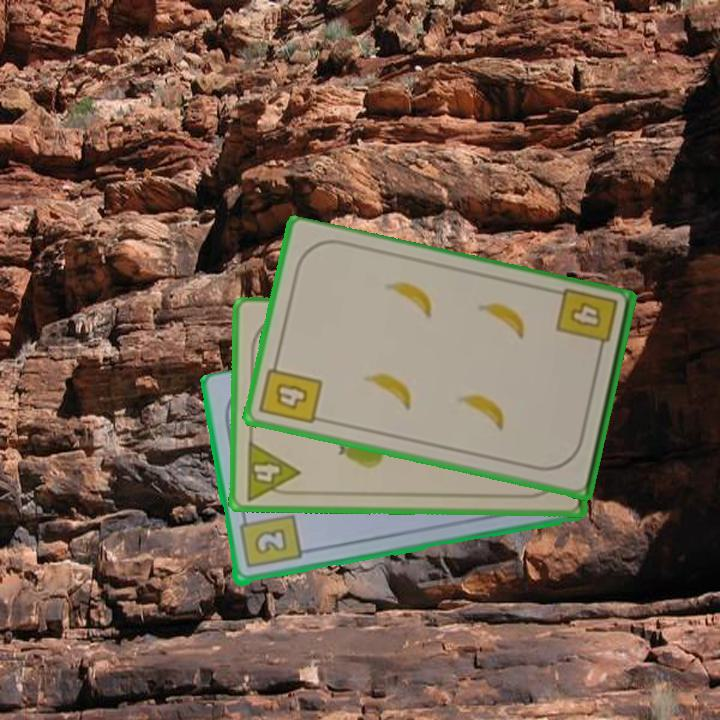2b: (235, 510, 304, 572)
4b: (552, 285, 621, 360), (256, 356, 325, 427)
4p: (242, 438, 302, 503)
